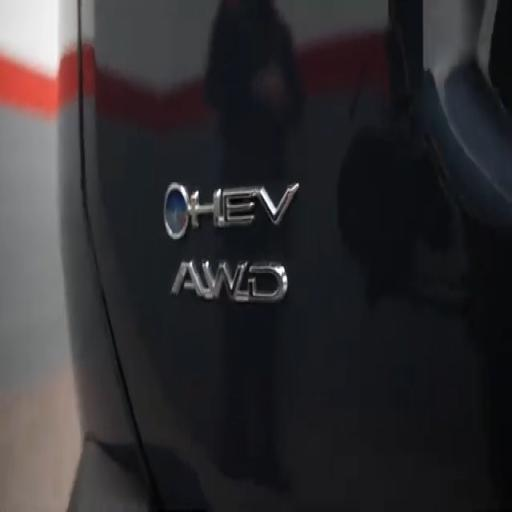emblem: (164, 184, 299, 240), (172, 261, 287, 302)
